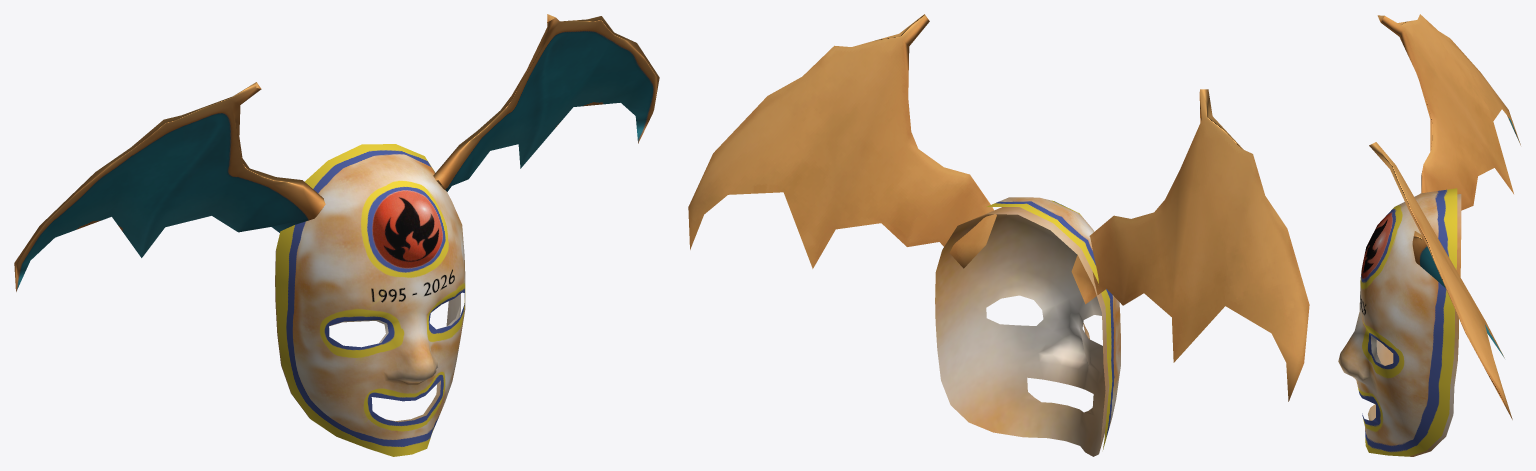
File: charizardcard_glb.glb
3 renders of one model, left to right at view 1: azimuth 30°, elevation 25°; view 2: azimuth 150°, elevation 25°; view 3: azimuth 270°, elevation 25°, orthographic. The views are drawn at different scales.
Bounding box in the file's own units: 56.33 × 34.11 × 15.44.
Materials: 2 (2 with a texture image).
